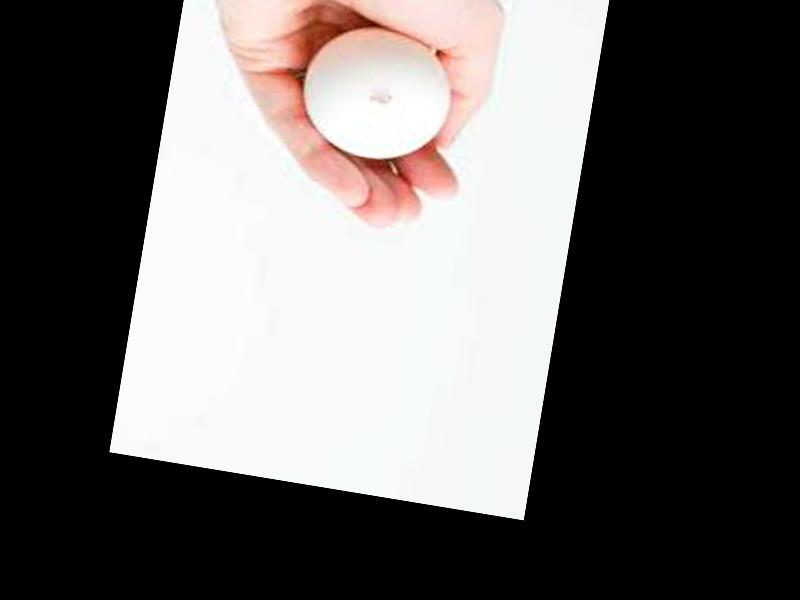Eggs: (296, 19, 455, 168)
